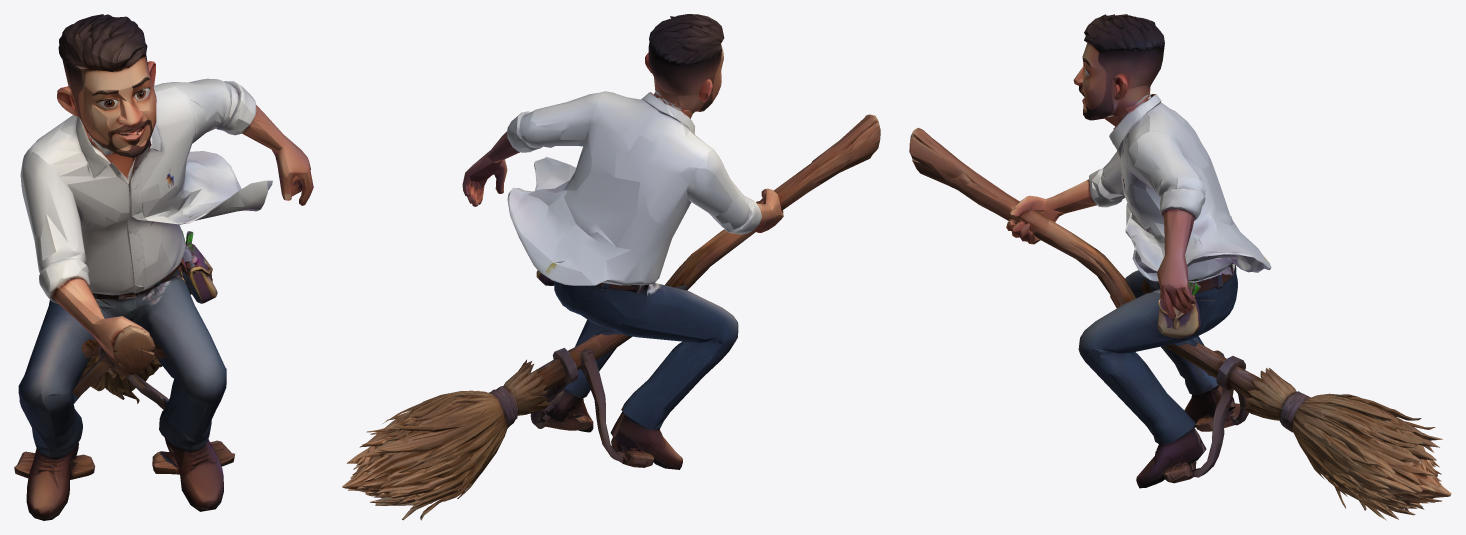
The model's file is hero-rig.glb.
3 views of the same model, side by side, from view 1: azimuth 30°, elevation 25°; view 2: azimuth 150°, elevation 25°; view 3: azimuth 270°, elevation 25° (orthographic). The views are drawn at different scales.
Visible parts, largest first — view 1: output_unwrapped; view 2: output_unwrapped; view 3: output_unwrapped.
Part boxes in pixels (x1=…): output_unwrapped: x1=14, y1=14, x2=313, y2=520; output_unwrapped: x1=342, y1=14, x2=880, y2=520; output_unwrapped: x1=909, y1=14, x2=1451, y2=520.
Size of the model in its own units: 1.17 by 1.67 by 1.91.
Materials: 1 (1 with a texture image).
